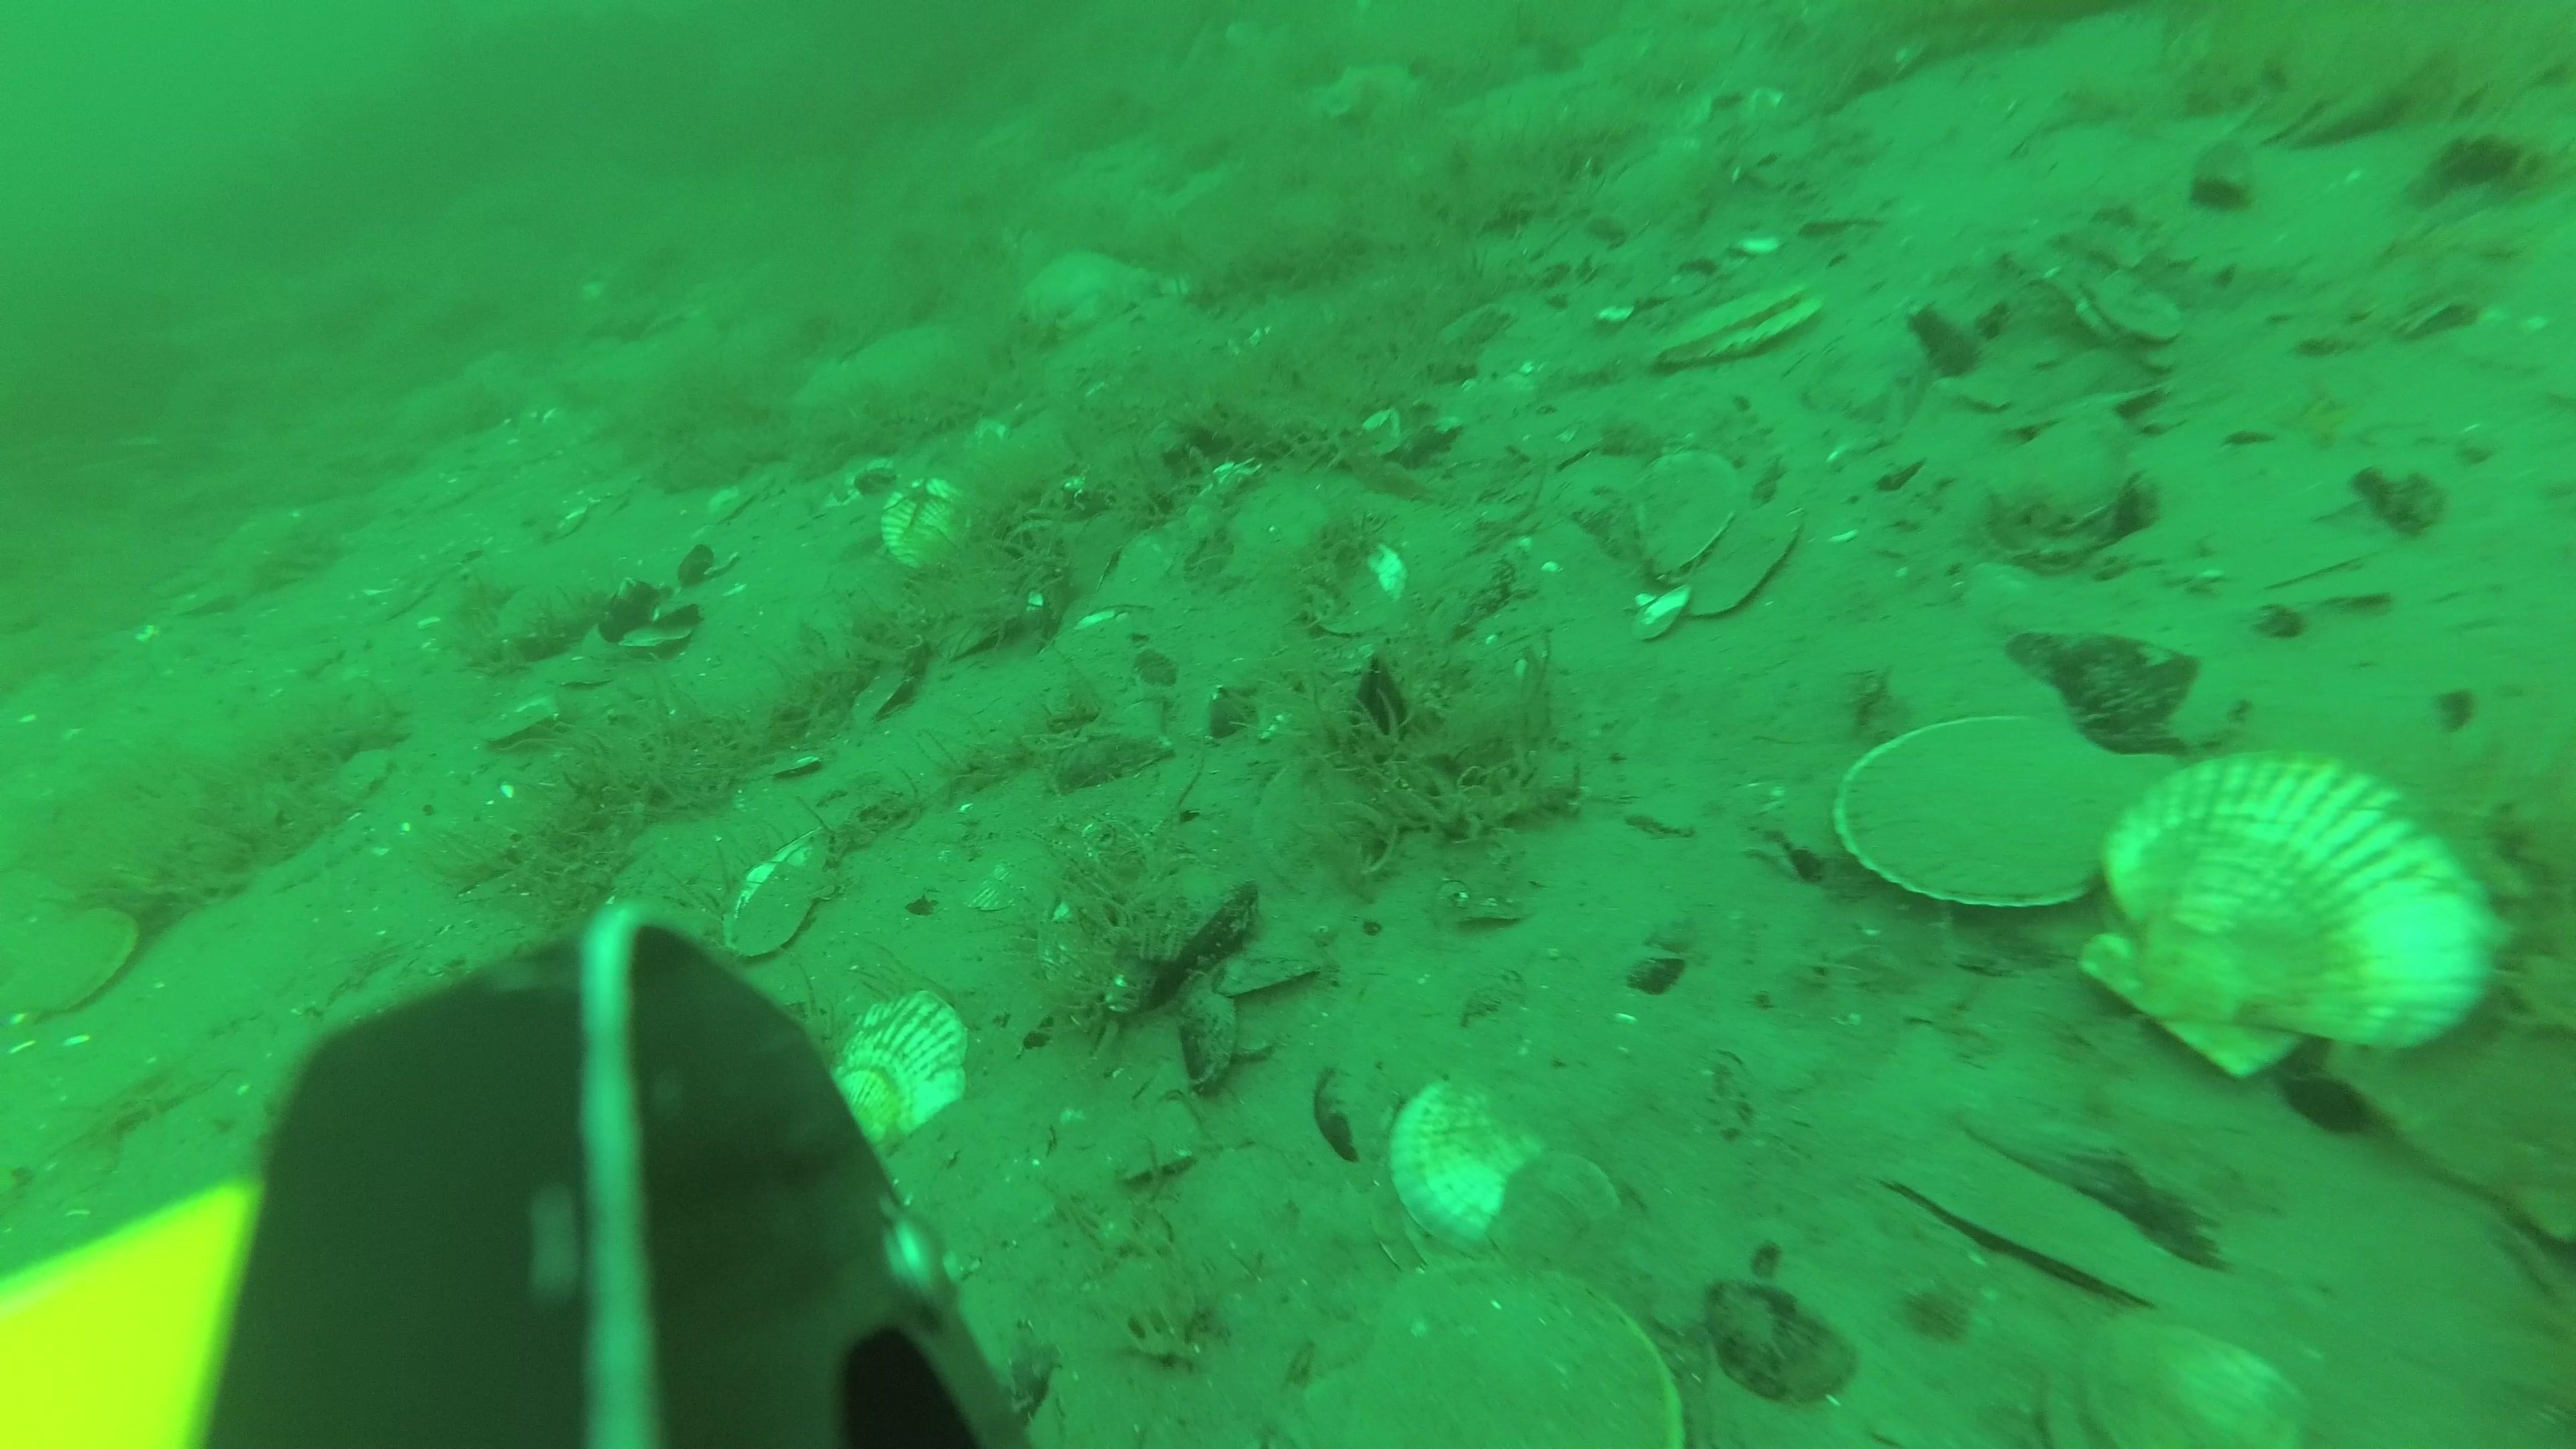scallop: (2084, 761, 2461, 1074), (1844, 718, 2173, 901), (1355, 1269, 1679, 1449), (2079, 1309, 2309, 1449), (819, 989, 968, 1157), (1391, 1085, 1534, 1231), (1488, 1152, 1624, 1277), (731, 816, 849, 957), (1654, 274, 1821, 373), (16, 899, 134, 1028), (1684, 497, 1798, 619), (1629, 448, 1736, 573), (878, 474, 973, 573)
starfish: (1033, 249, 1155, 345), (1316, 53, 1433, 133)
